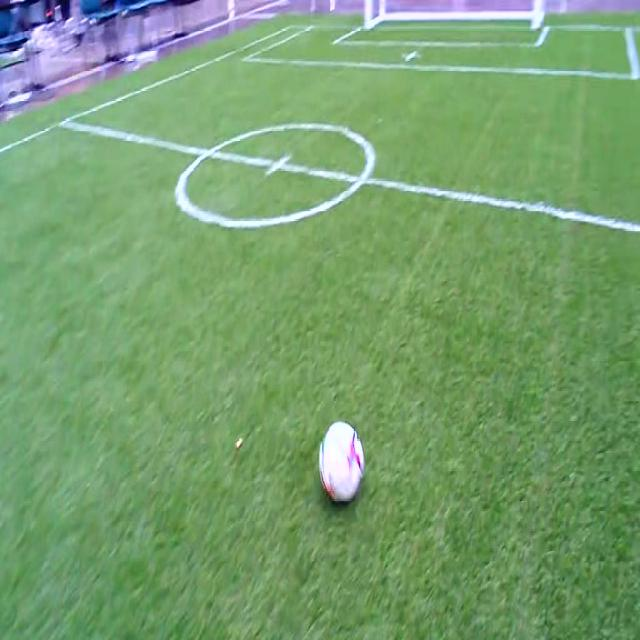ball: (318, 422, 364, 500)
